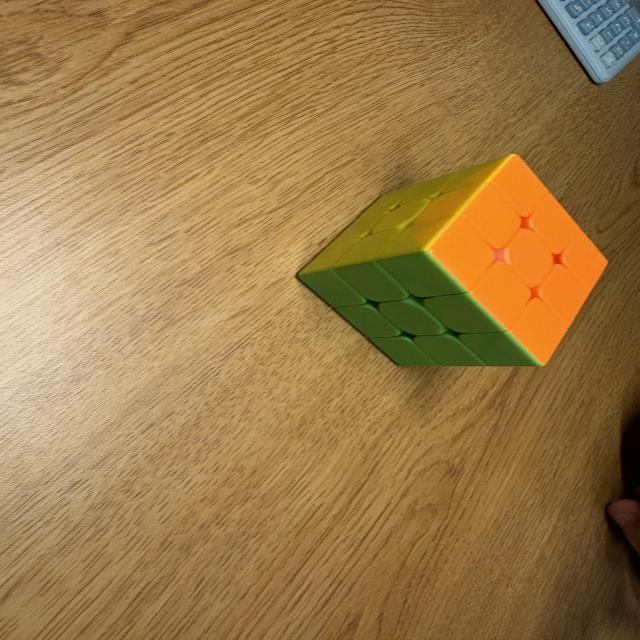Rubiks Cube: (299, 155, 611, 368)
